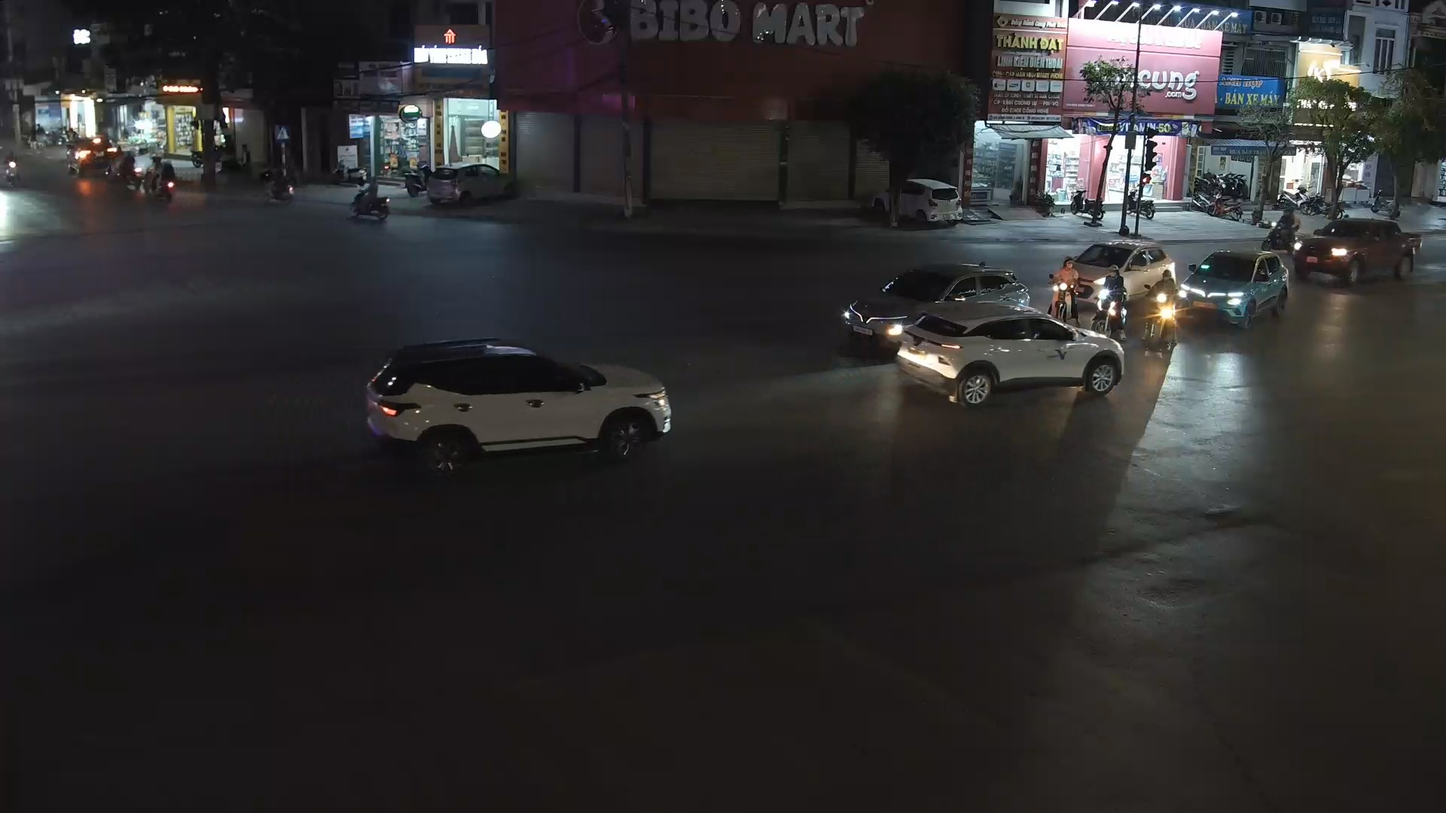car: (360, 337, 675, 476), (895, 308, 1127, 406), (839, 260, 1038, 364), (1177, 243, 1293, 331), (1293, 212, 1419, 289), (1051, 235, 1177, 307)
